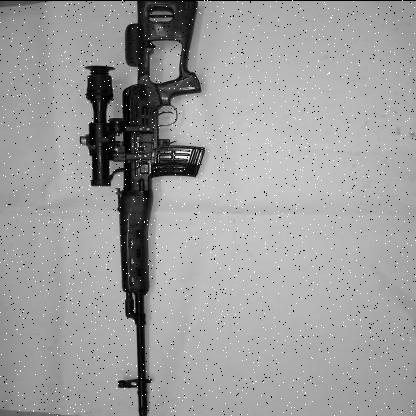rifle: (83, 1, 227, 416)
